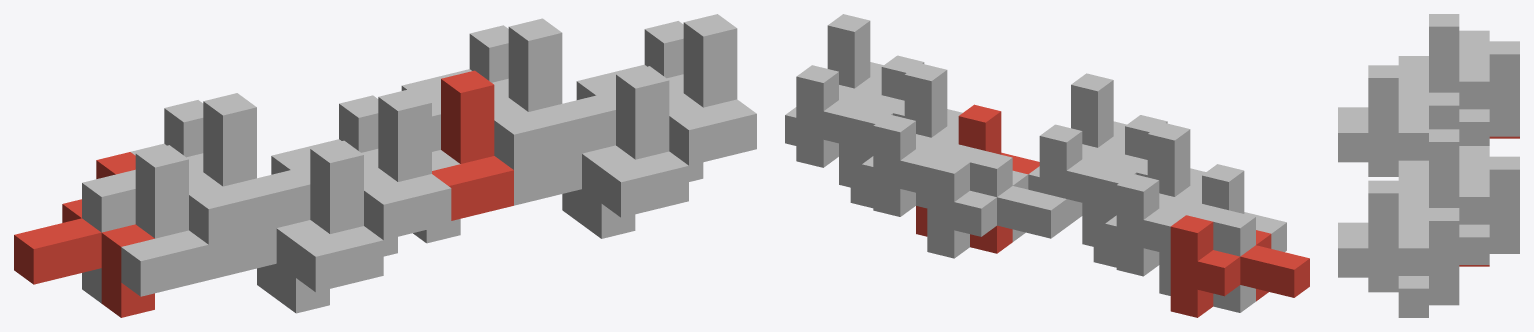
The model's file is tiling.obj.
The picture shows the model from 3 angles, left to right: view 1: azimuth 30°, elevation 25°; view 2: azimuth 150°, elevation 25°; view 3: azimuth 270°, elevation 25°; orthographic projection. The views are drawn at different scales.
Visible parts, largest first — view 1: copy_2_domain_2, copy_2_domain_1, copy_2_domain_6, copy_2_domain_8, copy_2_domain_7, copy_2_domain_3, copy_2_domain_4, copy_1_domain_1, copy_2_domain_5, copy_1_domain_2, copy_1_domain_6, copy_1_domain_3 (+4 smaller); view 2: copy_1_domain_1, copy_1_domain_5, copy_1_domain_3, copy_1_domain_7, copy_1_domain_8, copy_1_domain_4, copy_2_domain_1, copy_2_domain_3, copy_2_domain_8, copy_2_domain_7, copy_2_domain_4, copy_2_domain_5 (+4 smaller); view 3: copy_2_domain_8, copy_2_domain_4, copy_2_domain_7, copy_2_domain_3, copy_1_domain_8, copy_1_domain_3, copy_1_domain_7, copy_1_domain_4, copy_1_domain_6.
Boxes of the visible parts, left/top/right/bottom form: copy_2_domain_2: left=257, top=140, right=383, bottom=298; copy_2_domain_1: left=82, top=145, right=208, bottom=303; copy_2_domain_6: left=562, top=66, right=688, bottom=224; copy_2_domain_8: left=667, top=14, right=756, bottom=165; copy_2_domain_7: left=492, top=18, right=581, bottom=169; copy_2_domain_3: left=186, top=93, right=276, bottom=244; copy_2_domain_4: left=361, top=88, right=451, bottom=240; copy_1_domain_1: left=14, top=152, right=154, bottom=317; copy_2_domain_5: left=432, top=70, right=513, bottom=220; copy_1_domain_2: left=208, top=147, right=329, bottom=313; copy_1_domain_6: left=514, top=73, right=635, bottom=238; copy_1_domain_3: left=82, top=100, right=222, bottom=232; copy_1_domain_1: left=1170, top=215, right=1309, bottom=317; copy_1_domain_5: left=927, top=156, right=1066, bottom=258; copy_1_domain_3: left=1116, top=173, right=1255, bottom=276; copy_1_domain_7: left=873, top=114, right=1012, bottom=216; copy_1_domain_8: left=796, top=65, right=904, bottom=167; copy_1_domain_4: left=1039, top=124, right=1147, bottom=226; copy_2_domain_1: left=1159, top=164, right=1286, bottom=312; copy_2_domain_3: left=1105, top=122, right=1203, bottom=267; copy_2_domain_8: left=785, top=14, right=883, bottom=159; copy_2_domain_7: left=862, top=63, right=960, bottom=208; copy_2_domain_4: left=1028, top=73, right=1126, bottom=218; copy_2_domain_5: left=916, top=104, right=1039, bottom=253; copy_2_domain_8: left=1338, top=180, right=1428, bottom=315; copy_2_domain_4: left=1338, top=65, right=1428, bottom=171; copy_2_domain_7: left=1398, top=129, right=1489, bottom=264; copy_2_domain_3: left=1398, top=14, right=1489, bottom=145; copy_1_domain_8: left=1368, top=197, right=1459, bottom=303; copy_1_domain_3: left=1459, top=30, right=1519, bottom=136; copy_1_domain_7: left=1459, top=146, right=1519, bottom=251; copy_1_domain_4: left=1368, top=81, right=1459, bottom=175; copy_1_domain_6: left=1368, top=290, right=1459, bottom=305.
Size of the model in its own units: 20 by 5 by 6.
